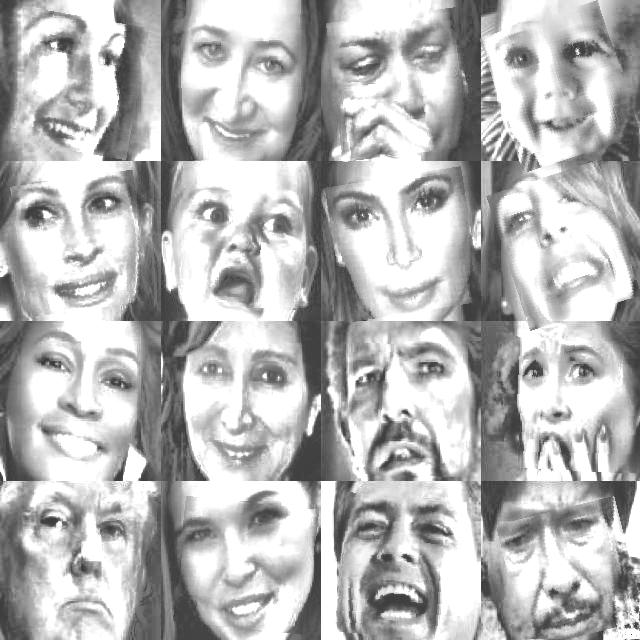fear: (504, 337, 640, 471), (348, 343, 467, 476), (173, 190, 303, 308)
happy: (490, 7, 632, 165), (330, 171, 478, 318), (496, 168, 632, 324), (19, 328, 147, 479), (176, 14, 306, 160), (337, 494, 465, 640), (15, 174, 147, 314), (176, 500, 316, 632), (20, 14, 144, 156), (190, 343, 302, 477)
neutral: (23, 499, 151, 627)
sad: (330, 11, 470, 159), (503, 502, 638, 640)
